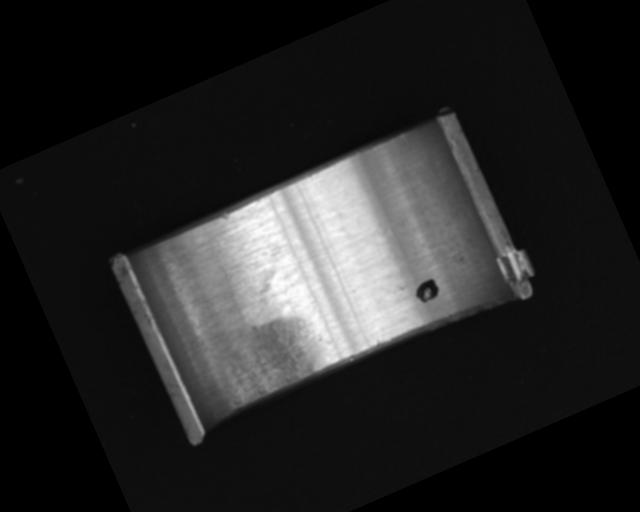blot: (411, 276, 443, 306)
bruise: (218, 210, 231, 223)
scratch: (201, 300, 336, 412)
